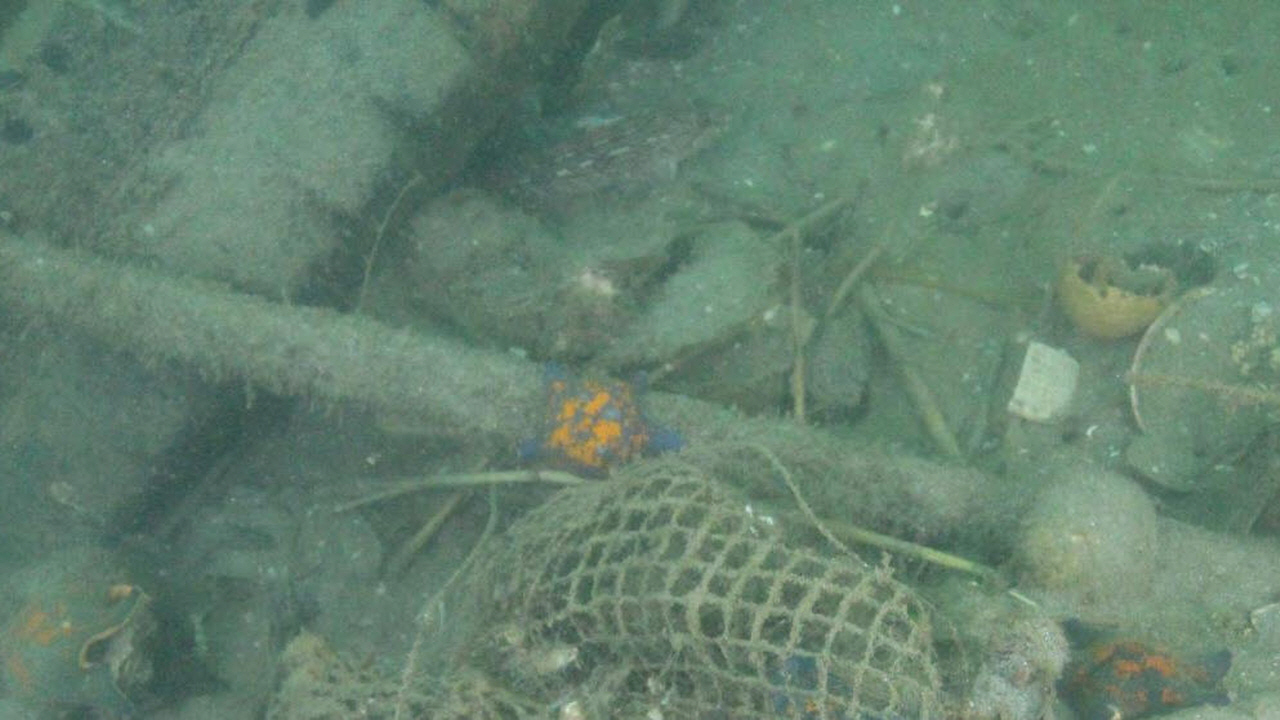fish net: (314, 457, 945, 720)
